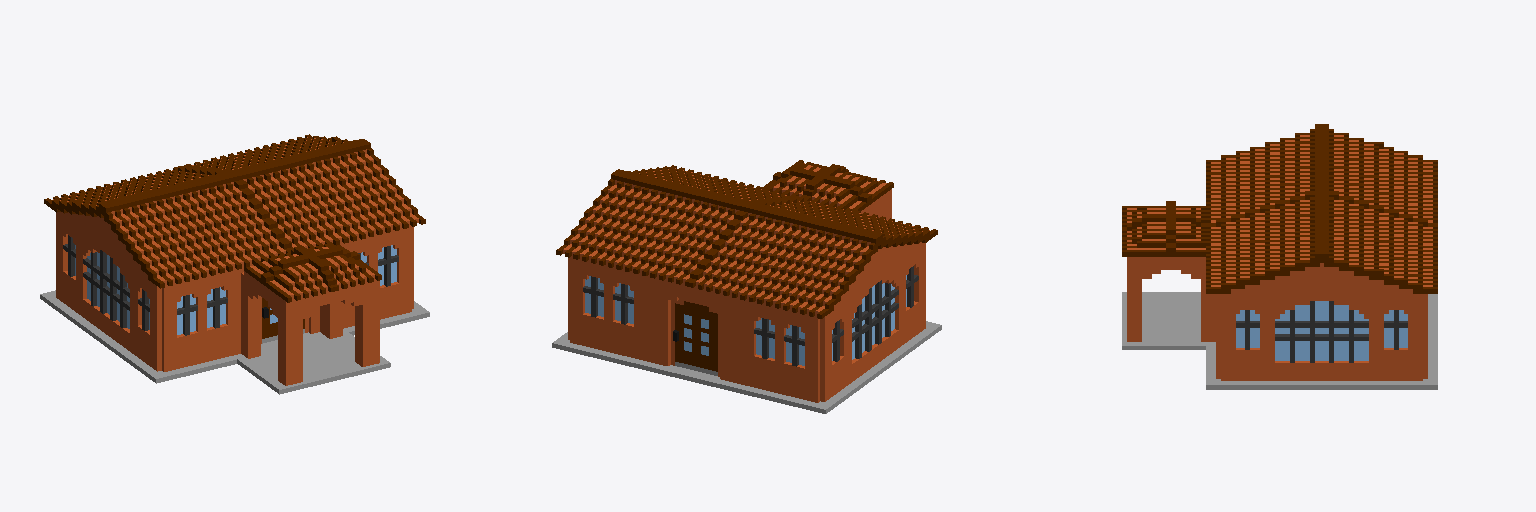
3 renders of one model, left to right at view 1: azimuth 30°, elevation 25°; view 2: azimuth 150°, elevation 25°; view 3: azimuth 270°, elevation 25°, orthographic.
Bounding box in the file's own units: 64 × 30 × 64.
1 materials, 1 textured.